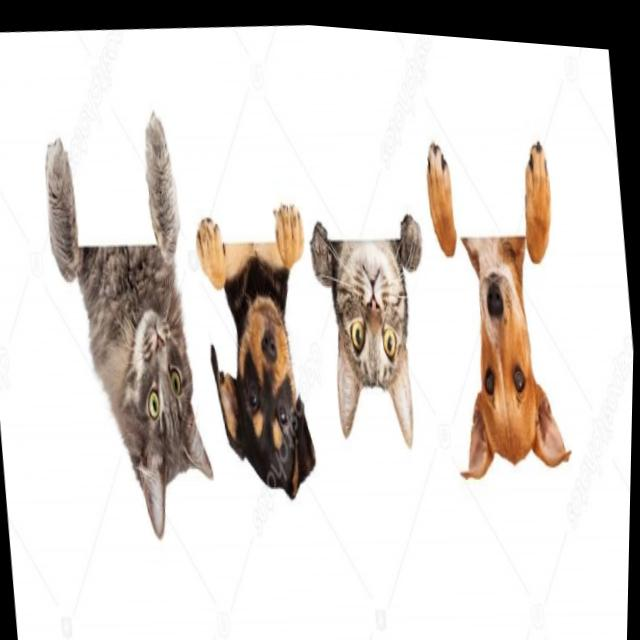Cat: (24, 120, 218, 546), (293, 146, 452, 509)
Dog: (405, 66, 638, 513), (174, 140, 332, 520)
